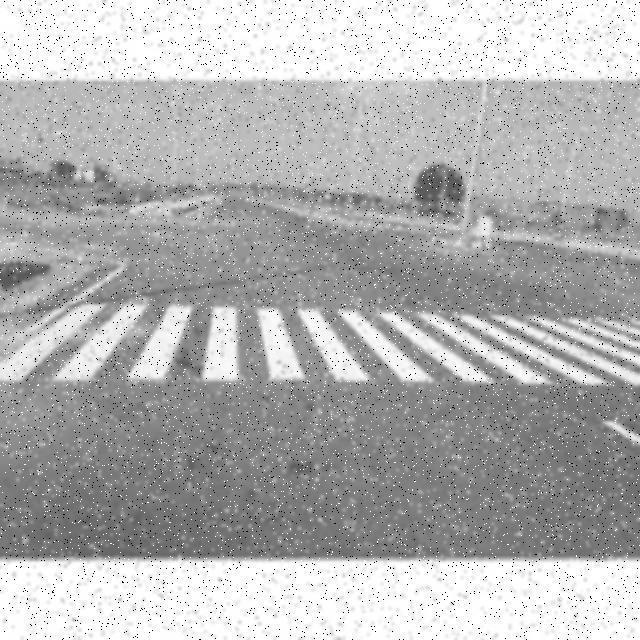crosswalk: (3, 303, 639, 385)
